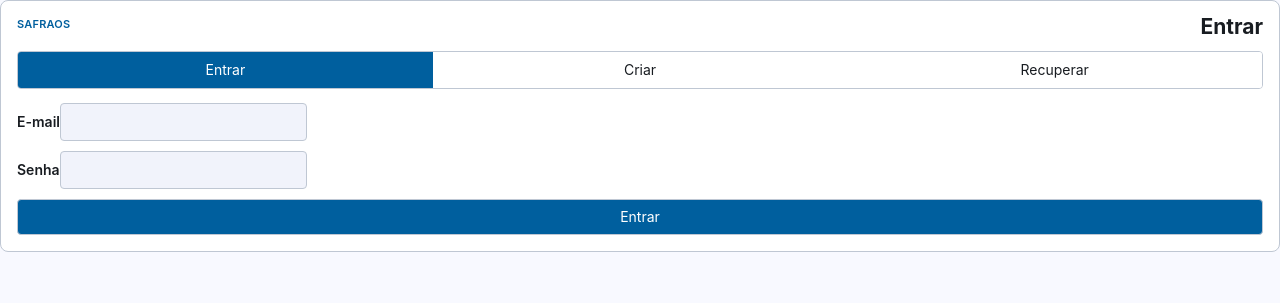
AuthPanel (SPEC-002) › login preserva e-mail e nunca repoe senha em erro recuperavel
Type "dono@example.com" into the field labelled "E-mail". click: (184, 122)
box: [60,103,307,141]
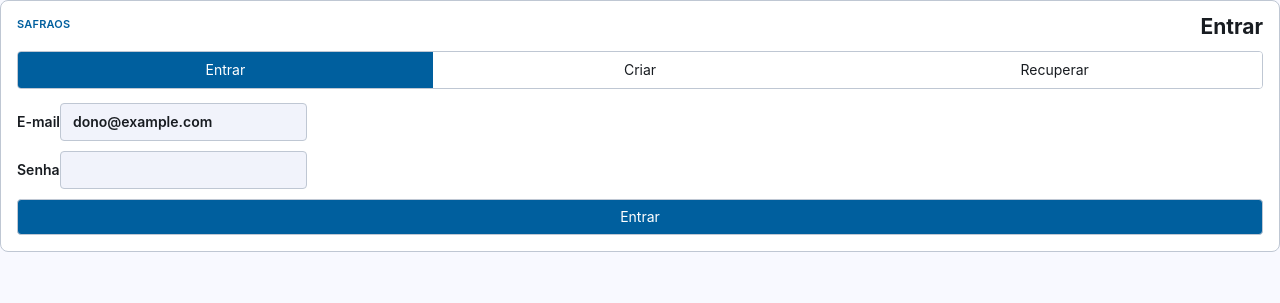
Type "senha-longa-segura" into the password field labelled "Senha". click: (183, 170)
box: [60,151,307,189]
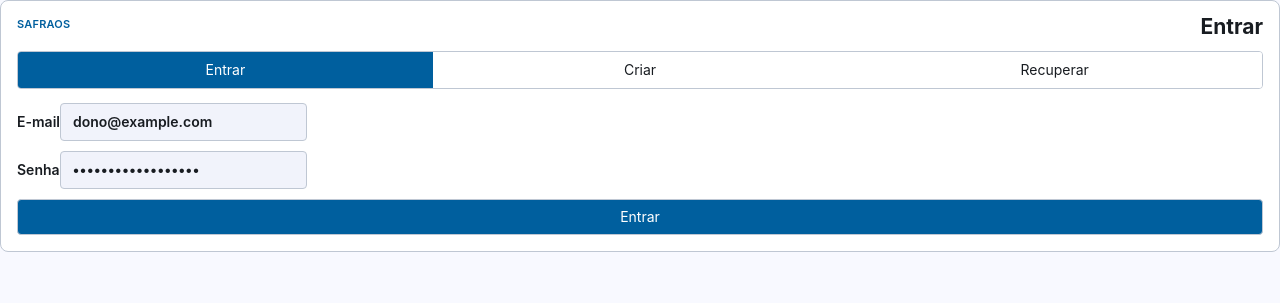
Click the button with aria-label "entrar agora". click: (640, 217)
box: [17,199,1263,235]
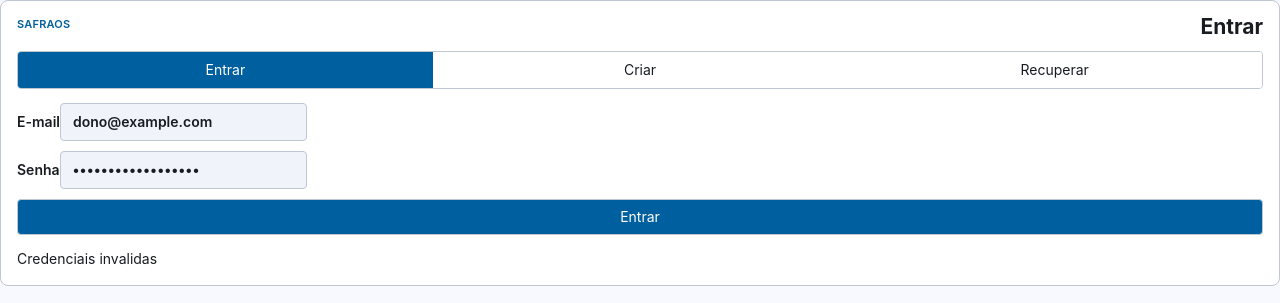
Now the text "Credenciais invalidas" is shown, box [17,250,157,267]
